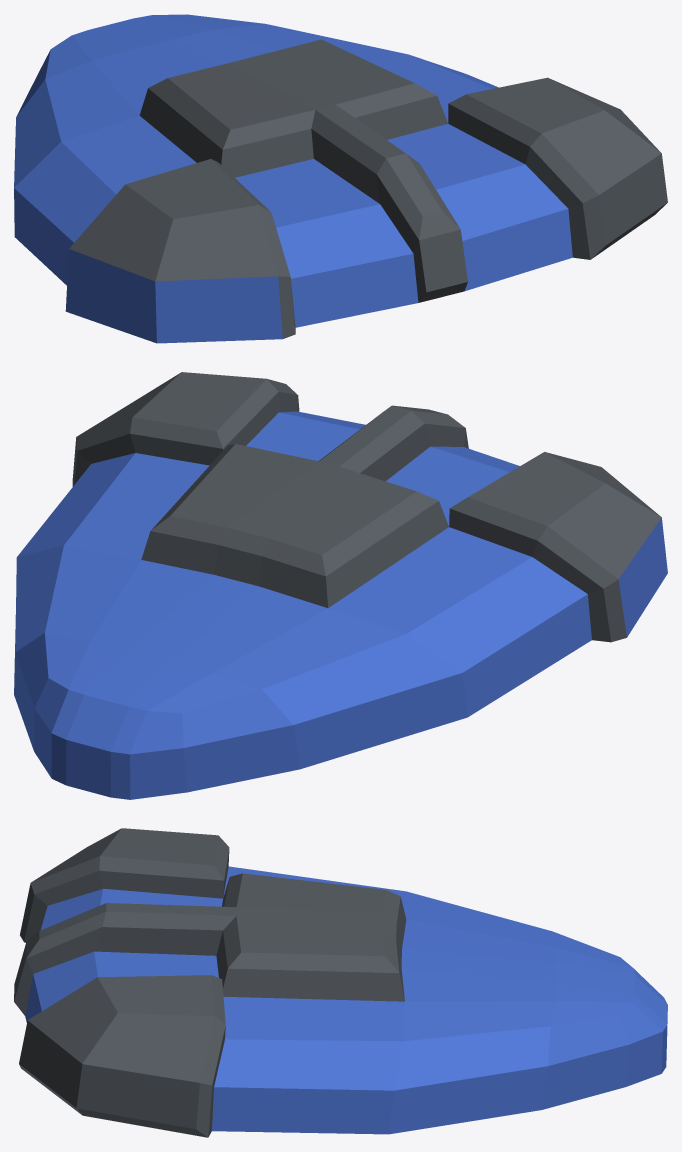
Rendered from Fighter_02_Hatch_Blue.fbx.
3 renders of one model, top to bottom at view 1: azimuth 30°, elevation 25°; view 2: azimuth 150°, elevation 25°; view 3: azimuth 270°, elevation 25°, orthographic. The views are drawn at different scales.
Visible parts, largest first — view 1: Fighter_02_Hatch_Blue; view 2: Fighter_02_Hatch_Blue; view 3: Fighter_02_Hatch_Blue.
Boxes of the visible parts, <box> form: Fighter_02_Hatch_Blue: <box>14,14,667,343</box>; Fighter_02_Hatch_Blue: <box>14,372,667,799</box>; Fighter_02_Hatch_Blue: <box>14,828,667,1137</box>.
Bounding box in the file's own units: 50.09 × 13.88 × 55.73.
Materials: 1 (1 with a texture image).
